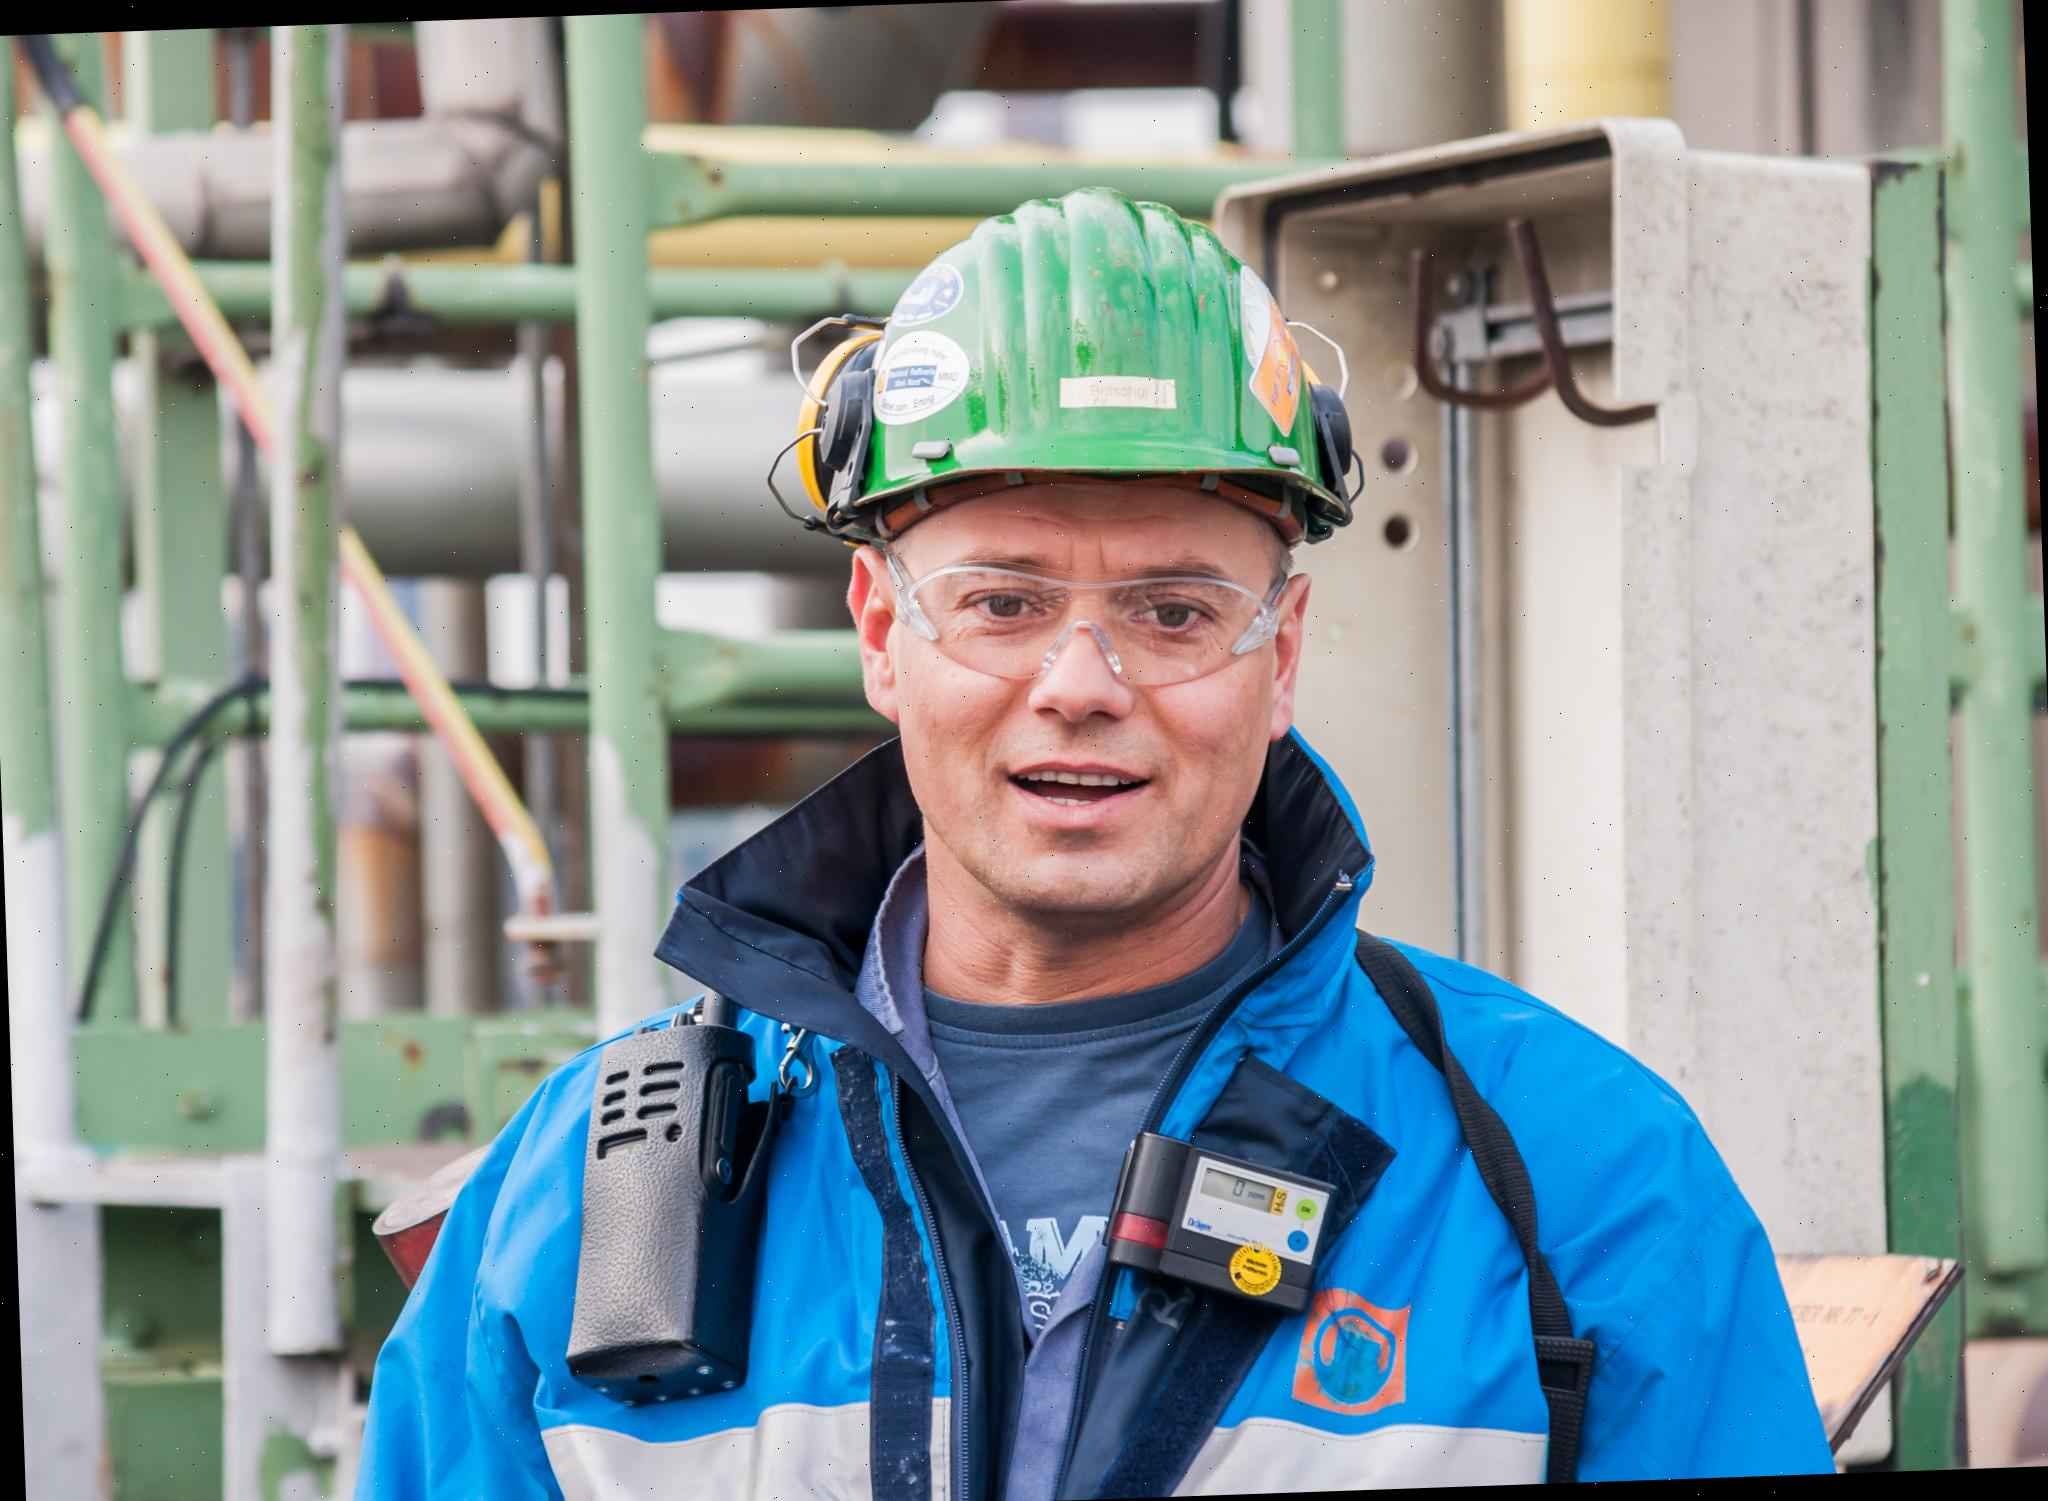helmet: (778, 172, 1356, 537)
wear: (331, 944, 1821, 1501)
